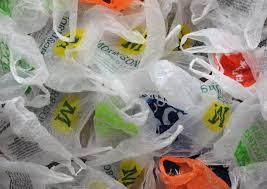Plastic bag: (4, 1, 267, 189)
